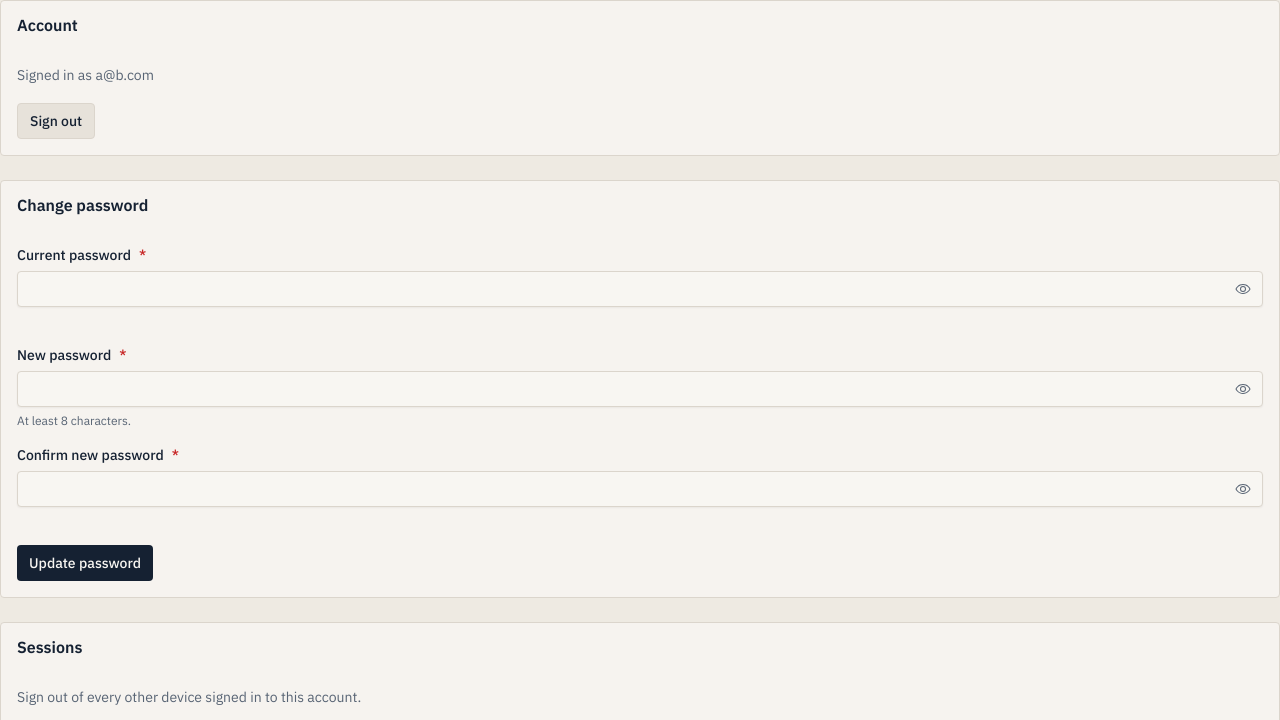
SettingsPanel › change password › validates and does not submit a mismatched confirmation
The image size is (1280, 720).
Type "old-password" into the password field labelled "Current password *" at (640, 289), box [17,271,1263,307]
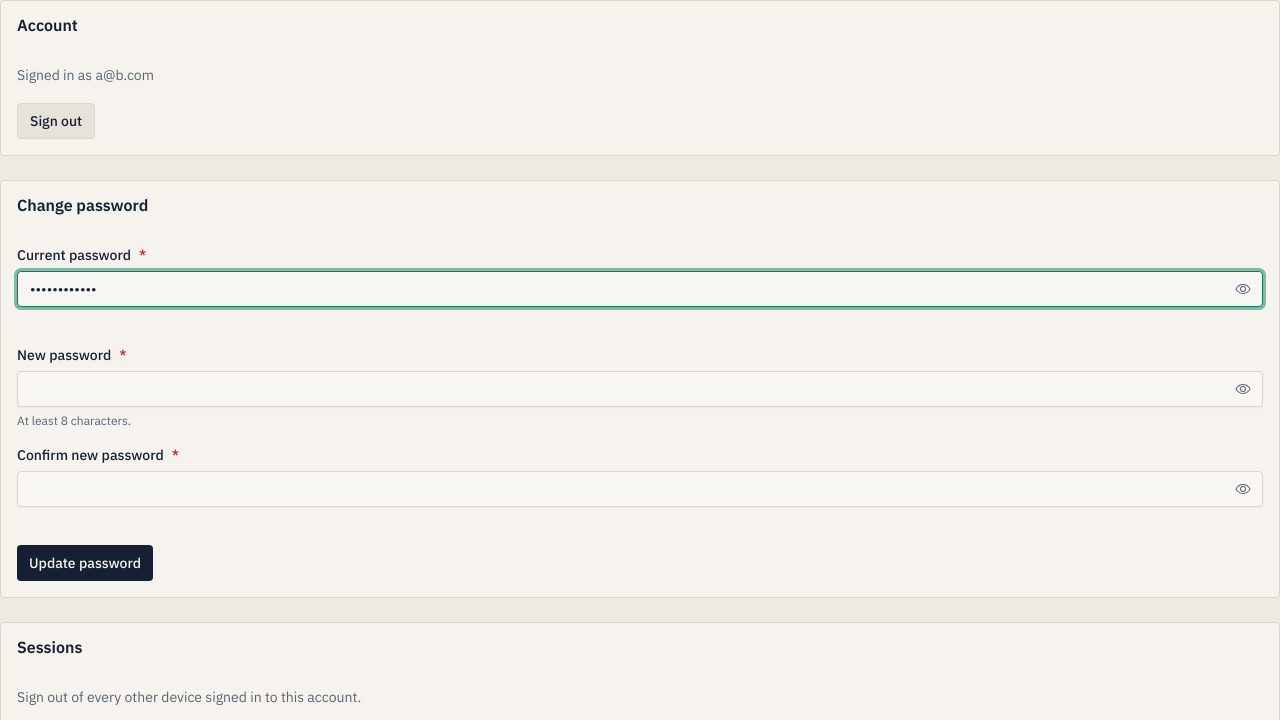
Type "password123" into the password field labelled "New password *" at (640, 389), box [17,371,1263,407]
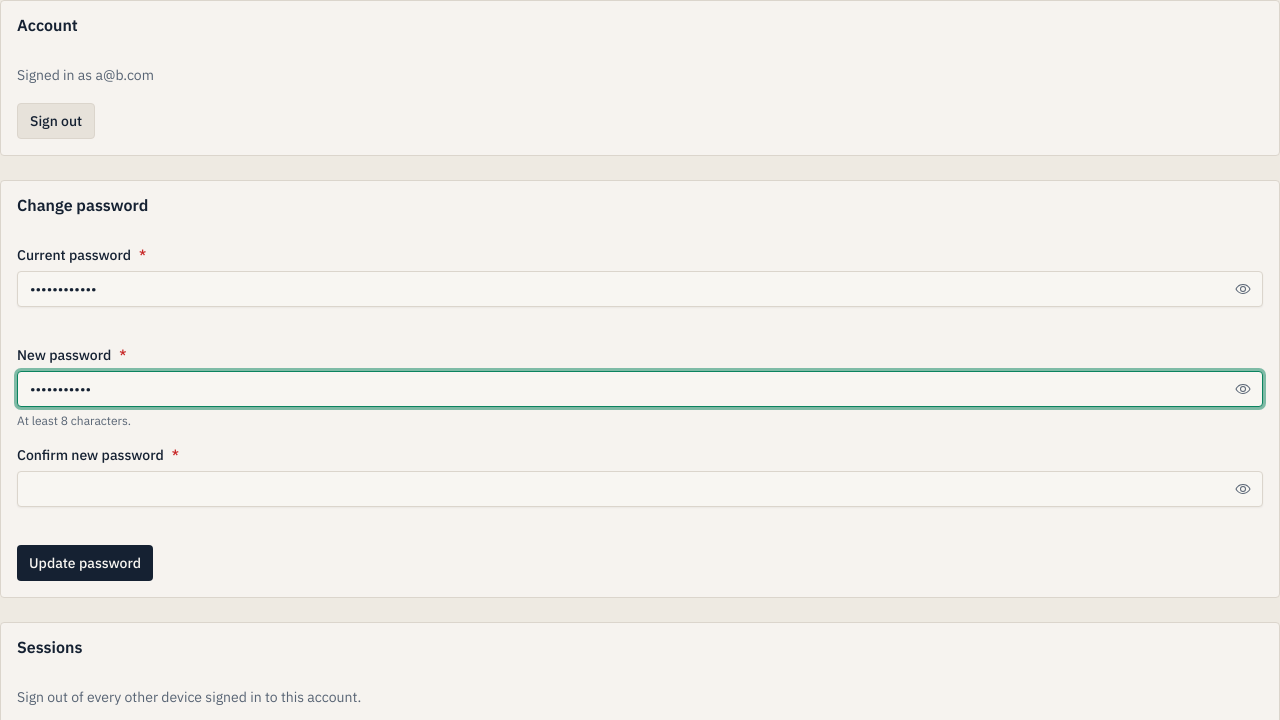
Type "different123" into the password field labelled "Confirm new password *" at (640, 489), box [17,471,1263,507]
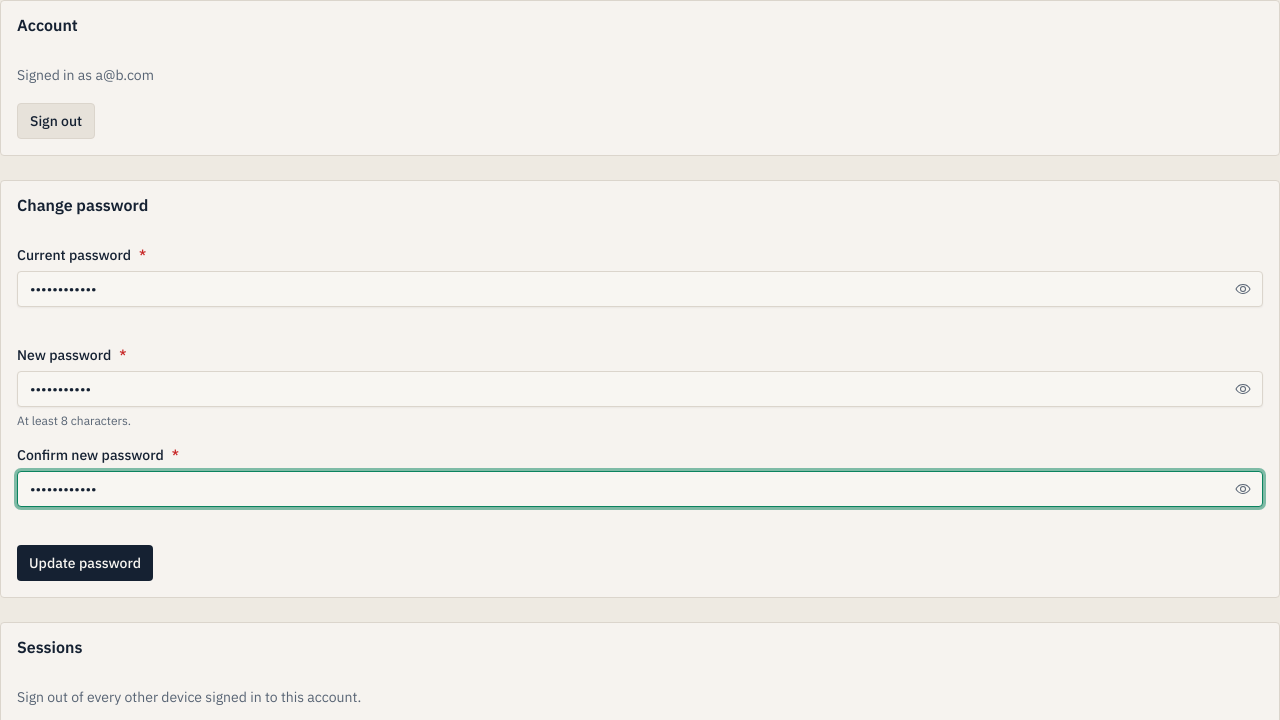
Click the button "Update password" at (85, 563), box [17,545,153,581]
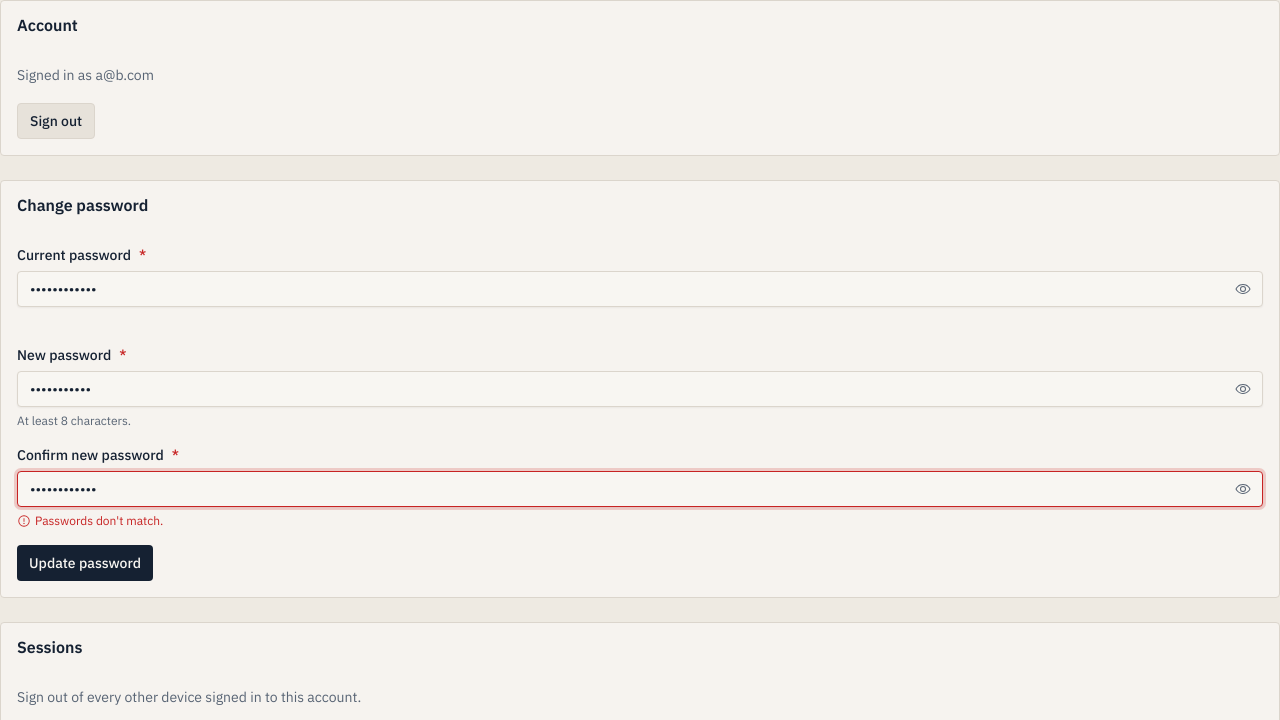
Result: the text "Passwords don't match." is shown at [17,513,163,528]
